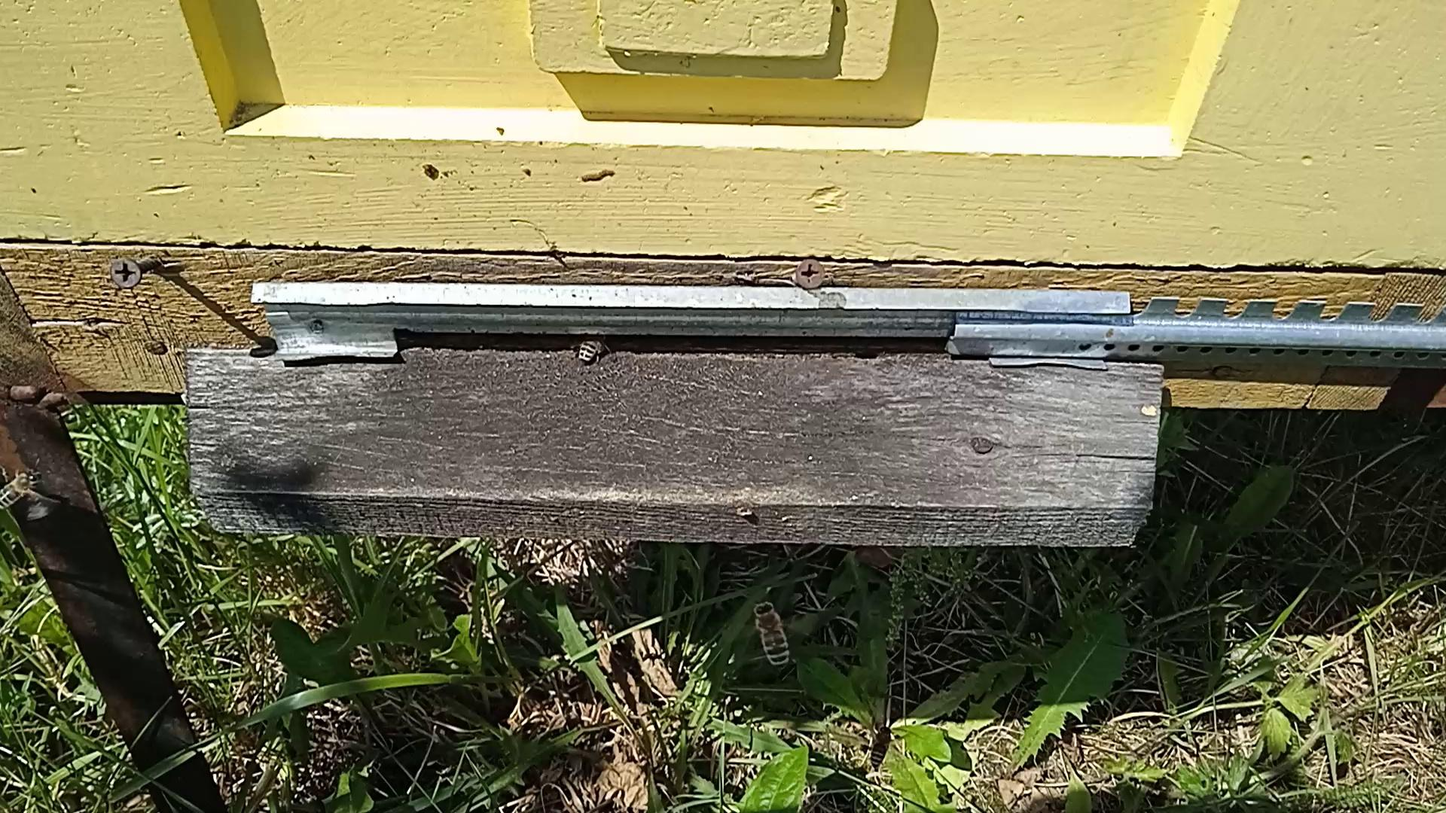worker-bee: (752, 600, 792, 669), (0, 469, 39, 509), (574, 334, 609, 364), (868, 726, 892, 769)
